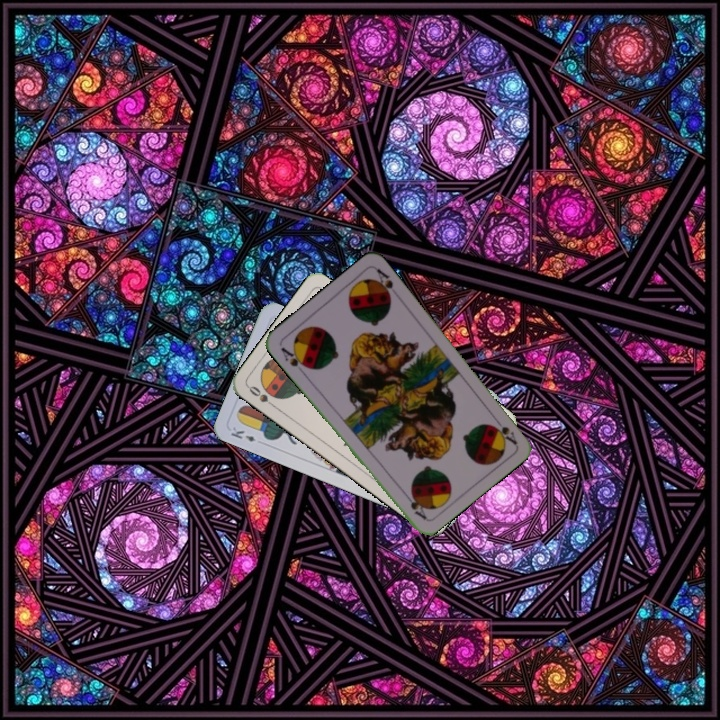EK: (227, 423, 258, 444)
SA: (277, 343, 311, 375), (489, 413, 520, 447)
SO: (244, 381, 280, 411)
